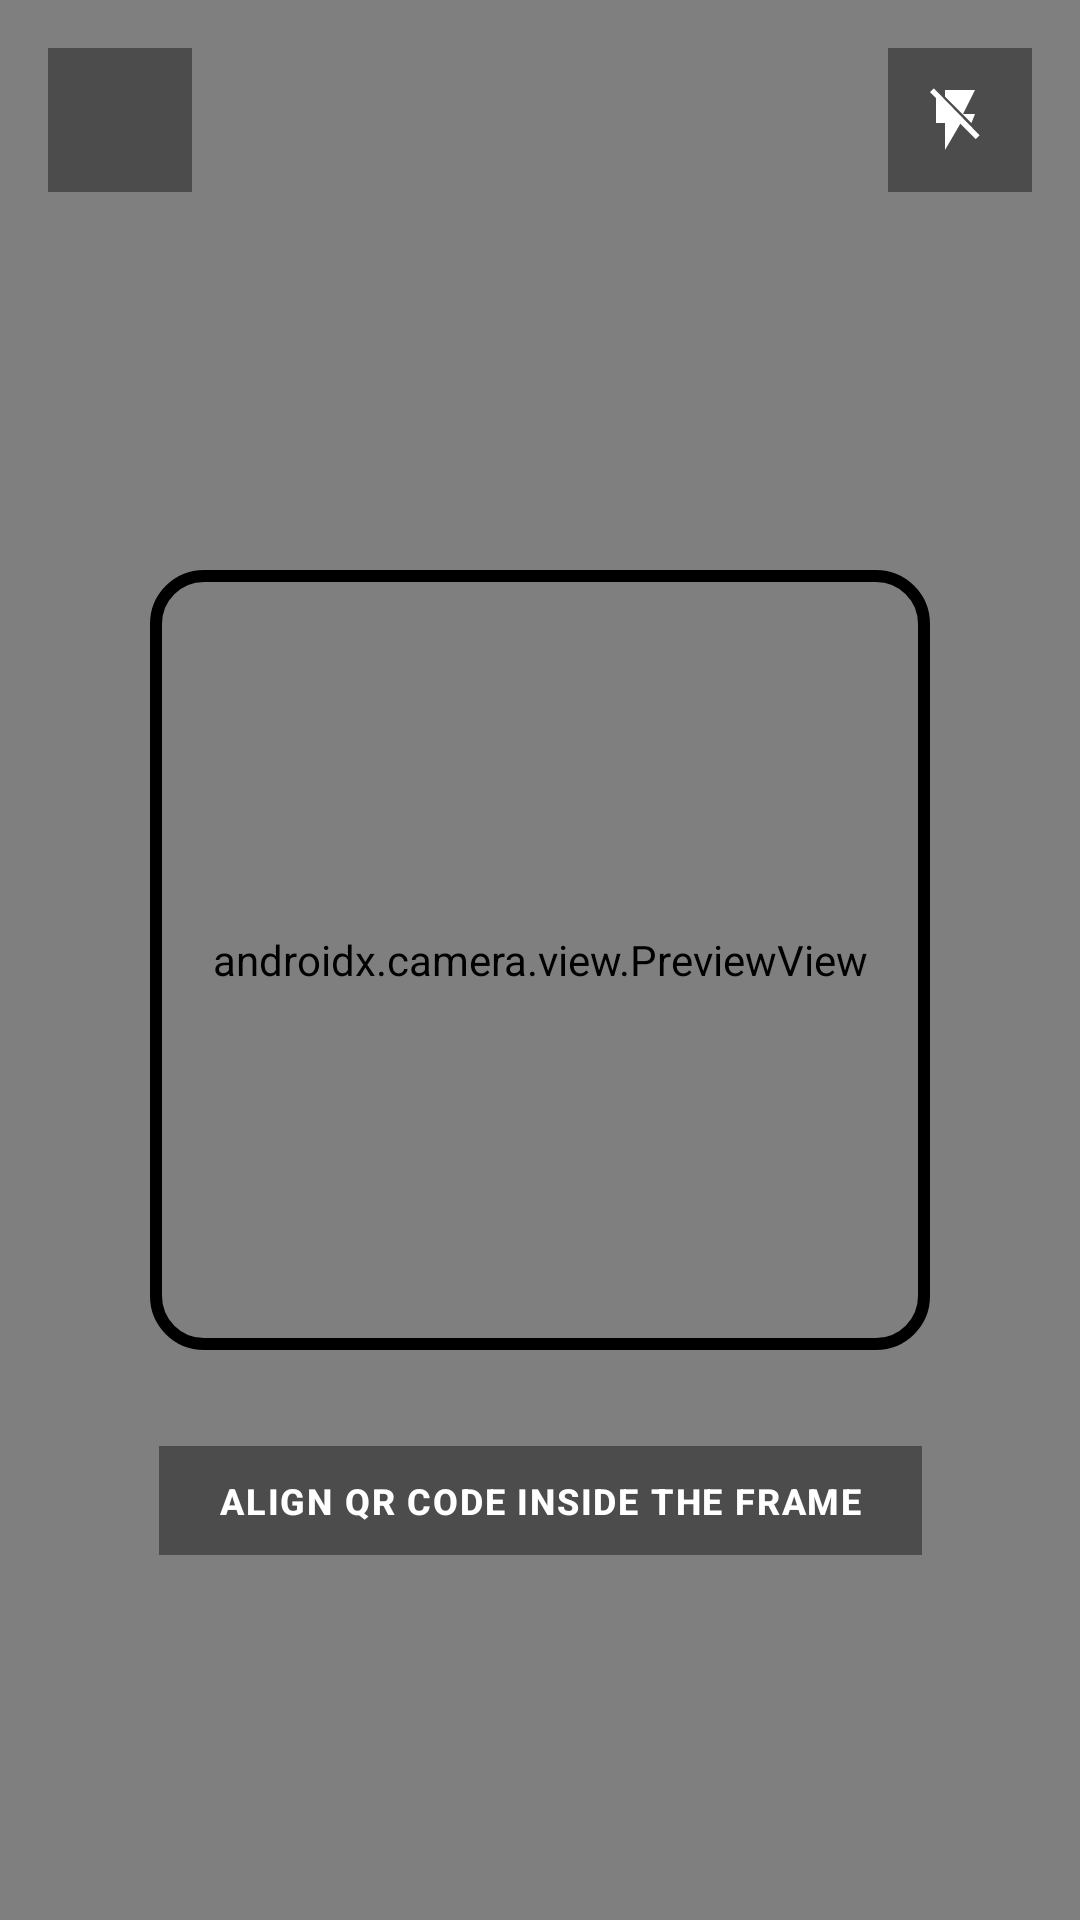

Icons on this 1080w x 1920h Android screen, each with its box as (x1, y1, x2, y2):
Flash: (888, 48, 1032, 192)
